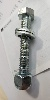FinishedAssembly: (13, 4, 38, 96)
